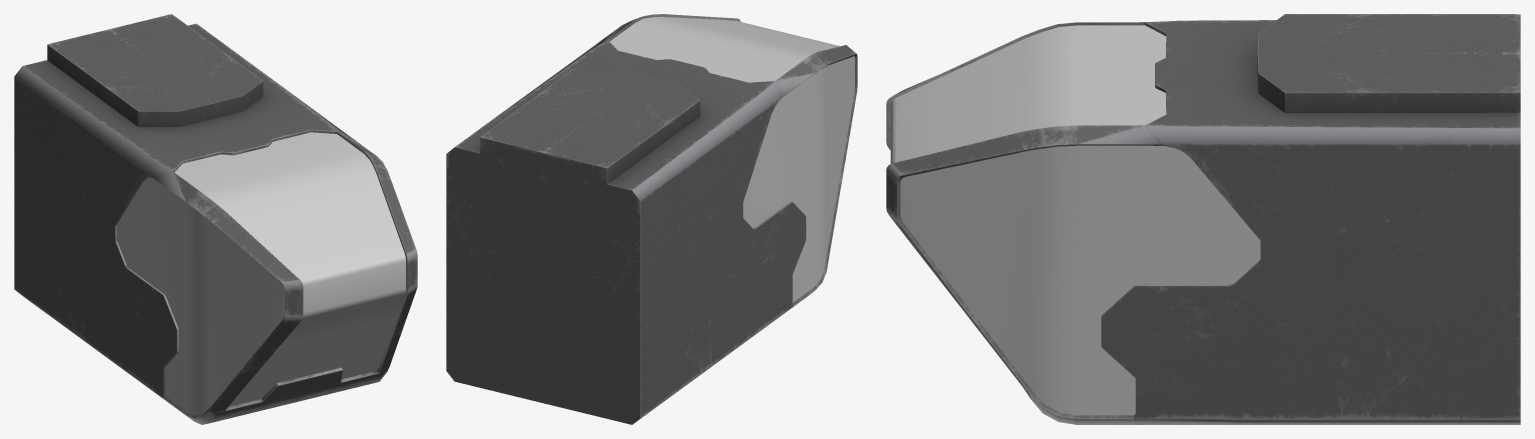
Rendered from Cockpit.fbx.
3 renders of one model, left to right at view 1: azimuth 30°, elevation 25°; view 2: azimuth 150°, elevation 25°; view 3: azimuth 270°, elevation 25°, orthographic. The views are drawn at different scales.
Parts seen in each view (by area): view 1: cockpit; view 2: cockpit; view 3: cockpit.
Boxes of the visible parts, <box> form: cockpit: <box>14,14,417,424</box>; cockpit: <box>446,14,857,424</box>; cockpit: <box>886,14,1520,424</box>.
Bounding box in the file's own units: 171 × 211 × 383.
